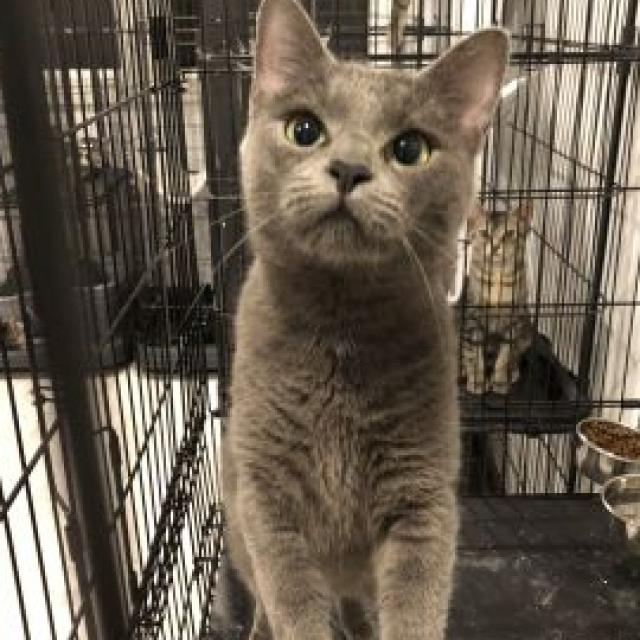Russian Blue: (218, 0, 514, 640)
